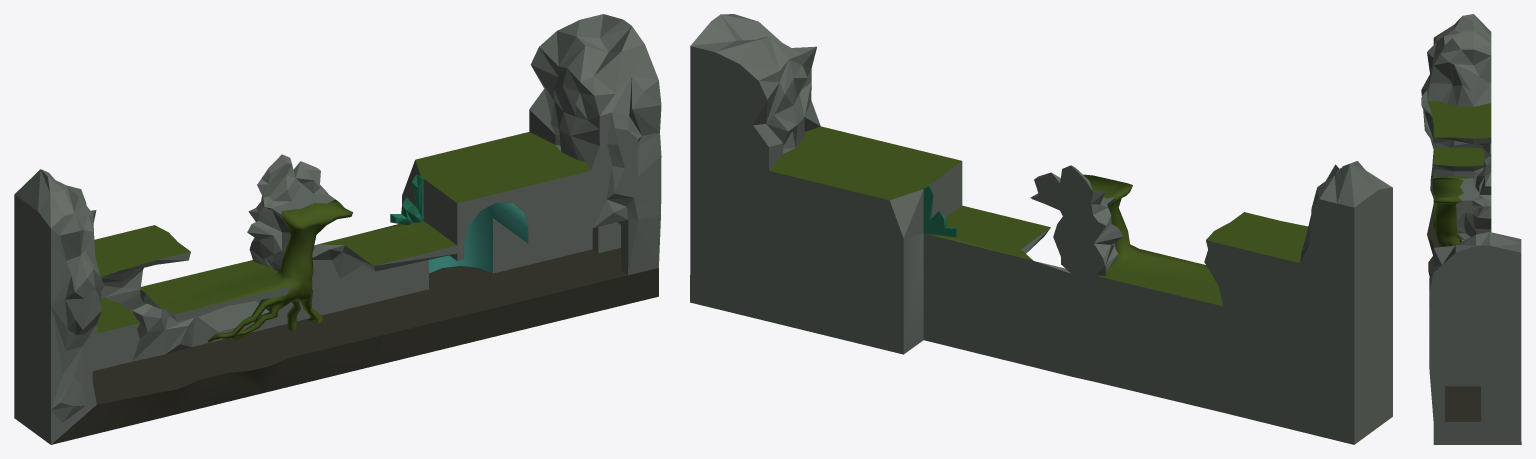
File: podval_1.fbx
The picture shows the model from 3 angles, left to right: view 1: azimuth 30°, elevation 25°; view 2: azimuth 150°, elevation 25°; view 3: azimuth 270°, elevation 25°; orthographic projection. The views are drawn at different scales.
Parts seen in each view (by area): view 1: podval; view 2: podval; view 3: podval.
Boxes of the visible parts, bbox=[...] form: podval: bbox=[14, 14, 661, 444]; podval: bbox=[690, 14, 1392, 444]; podval: bbox=[1421, 14, 1521, 444].
Bounding box in the file's own units: 4952 × 1980 × 889.
